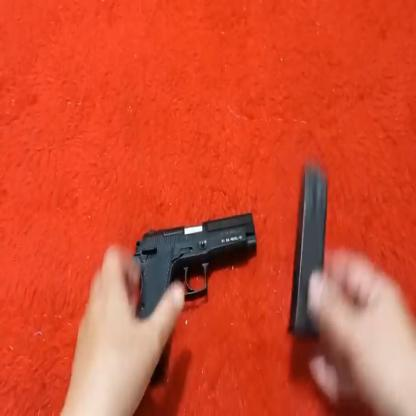handgun: (136, 206, 258, 352)
